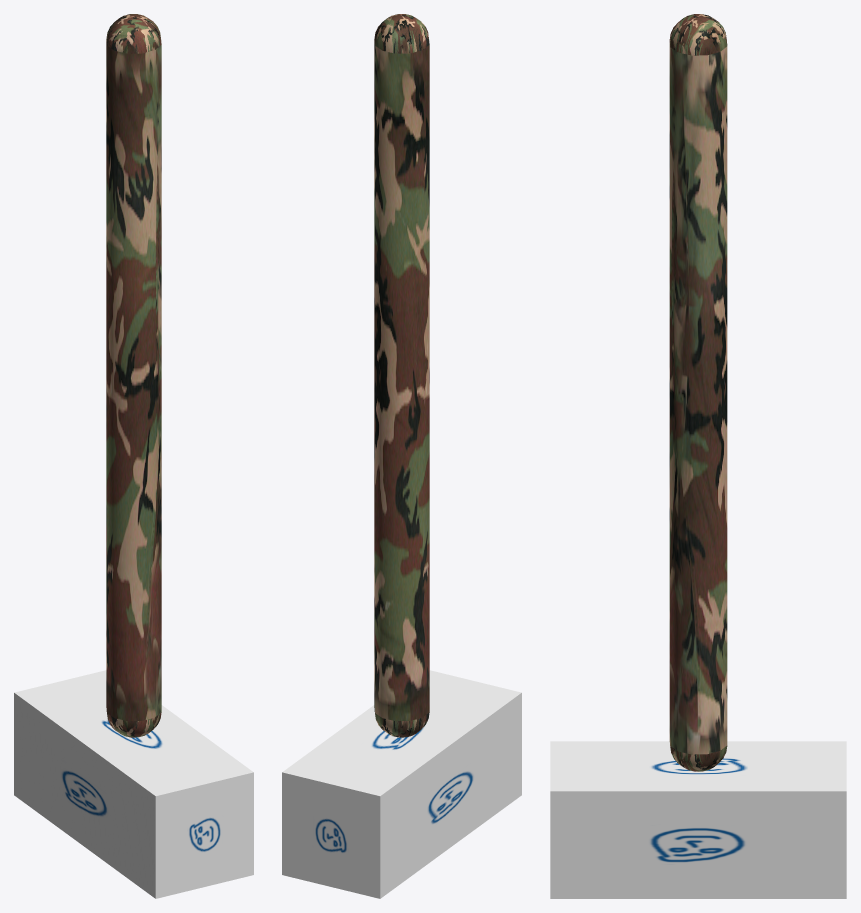
The model's file is cartpole.fbx.
The picture shows the model from 3 angles, left to right: view 1: azimuth 30°, elevation 25°; view 2: azimuth 150°, elevation 25°; view 3: azimuth 270°, elevation 25°; orthographic projection. The views are drawn at different scales.
Parts seen in each view (by area): view 1: pole_capsule, cart_box; view 2: pole_capsule, cart_box; view 3: cart_box, pole_capsule.
Boxes of the visible parts, left/top/right/bottom form: pole_capsule: left=106, top=14, right=161, bottom=737; cart_box: left=14, top=670, right=253, bottom=898; pole_capsule: left=374, top=14, right=429, bottom=737; cart_box: left=282, top=670, right=521, bottom=898; cart_box: left=550, top=741, right=846, bottom=898; pole_capsule: left=669, top=14, right=727, bottom=771.
Bounding box in the file's own units: 10 × 25 × 79.74.
Materials: 2 (2 with a texture image).
